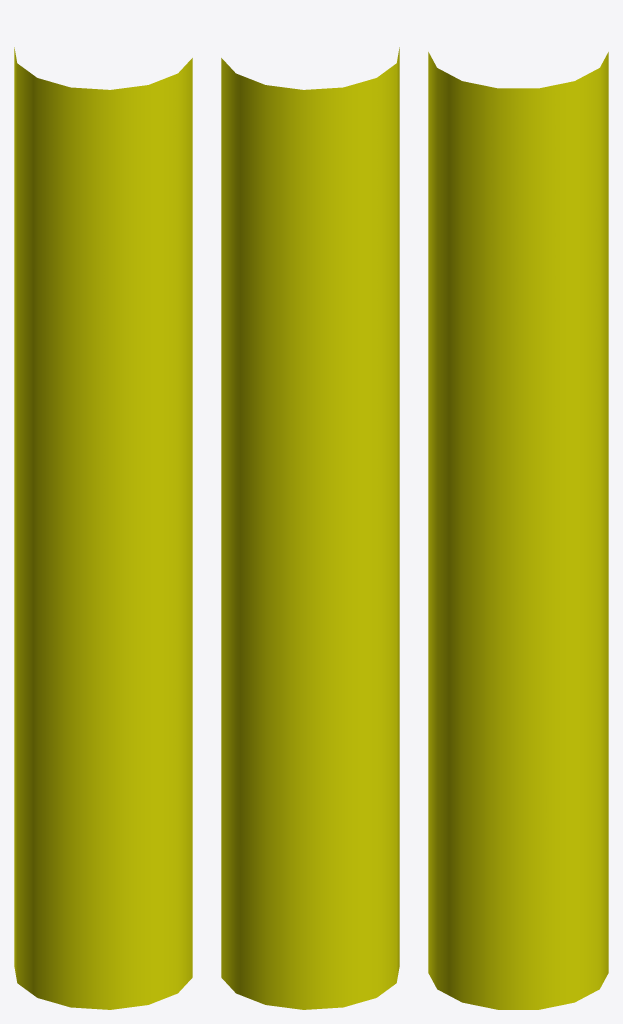
3 views of the same model, side by side, from view 1: azimuth 30°, elevation 25°; view 2: azimuth 150°, elevation 25°; view 3: azimuth 270°, elevation 25° (orthographic).
Visible parts, largest first — view 1: Joint_0_Object_0; view 2: Joint_0_Object_0; view 3: Joint_0_Object_0.
Part boxes in pixels (x1,y1,x2,y2): Joint_0_Object_0: (14,47,192,1009); Joint_0_Object_0: (221,47,399,1009); Joint_0_Object_0: (428,52,608,1009).
Bounding box in the file's own units: 72.31 × 417 × 74.08.
